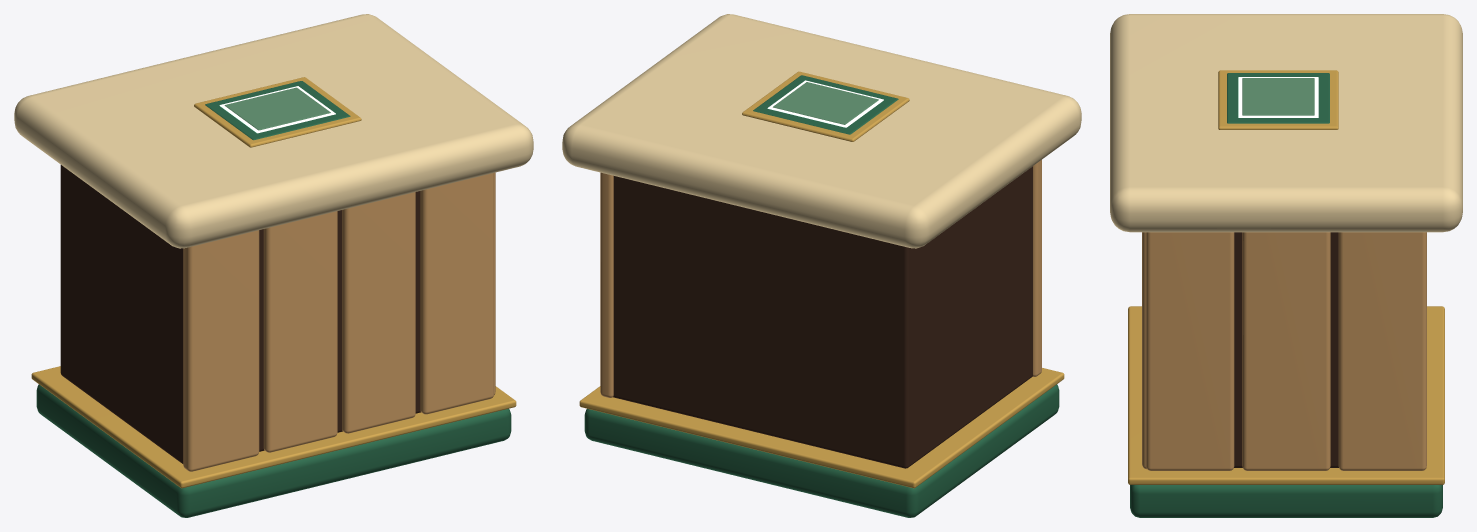
Rendered from id_desk_tier1.glb.
The picture shows the model from 3 angles, left to right: view 1: azimuth 30°, elevation 25°; view 2: azimuth 150°, elevation 25°; view 3: azimuth 270°, elevation 25°; orthographic projection. The views are drawn at different scales.
Visible parts, largest first — view 1: Top, Core, SlatF0, SlatF1, SlatF2, SlatF3, Plinth, PlinthBand, ScanGlass, ScanFrame, ScanPad, ScanEdge; view 2: Core, Top, Plinth, PlinthBand, SlatE2, ScanGlass, ScanFrame, SlatF0, ScanPad, ScanEdge; view 3: Top, SlatE0, SlatE2, SlatE1, Plinth, PlinthBand, Core, ScanGlass, ScanFrame, ScanPad, SlatF3, ScanEdge.
Boxes of the visible parts, x1,y1,x2,y2 form: Top: (14, 14, 533, 248); Core: (60, 165, 420, 463); SlatF0: (183, 230, 259, 471); SlatF1: (263, 211, 337, 452); SlatF2: (342, 192, 415, 433); SlatF3: (420, 173, 493, 414); Plinth: (36, 384, 511, 517); PlinthBand: (31, 366, 516, 488); ScanGlass: (224, 87, 330, 130); ScanFrame: (194, 77, 361, 147); ScanPad: (205, 81, 350, 140); ScanEdge: (219, 86, 335, 133); Core: (613, 166, 1032, 468); Top: (562, 14, 1081, 248); Plinth: (584, 384, 1059, 517); PlinthBand: (579, 368, 1064, 488); SlatE2: (600, 172, 613, 397); ScanGlass: (773, 82, 878, 124); ScanFrame: (742, 71, 909, 141); SlatF0: (1032, 160, 1041, 376); ScanPad: (753, 75, 898, 134); ScanEdge: (767, 80, 883, 127); Top: (1110, 14, 1462, 232); SlatE0: (1146, 232, 1234, 470); SlatE2: (1338, 232, 1426, 470); SlatE1: (1242, 232, 1330, 470); Plinth: (1130, 485, 1442, 517); PlinthBand: (1128, 306, 1444, 484); Core: (1234, 232, 1338, 467); ScanGlass: (1242, 78, 1314, 115); ScanFrame: (1218, 70, 1338, 129); ScanPad: (1227, 73, 1329, 123); SlatF3: (1142, 232, 1146, 469); ScanEdge: (1238, 77, 1318, 117).
Bounding box in the file's own units: 1.11 × 0.934 × 0.88.
